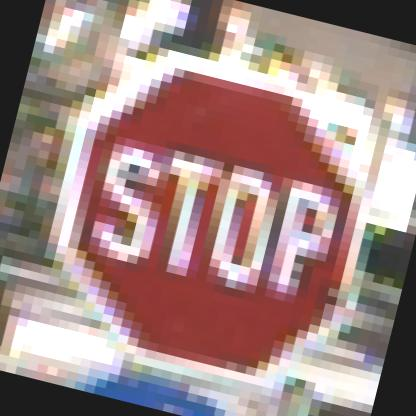stop: (14, 25, 412, 397)
